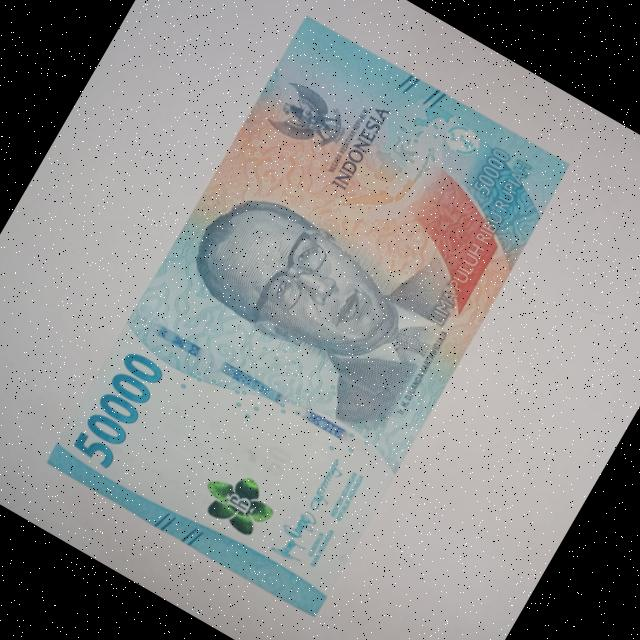50K: (24, 0, 595, 636)
